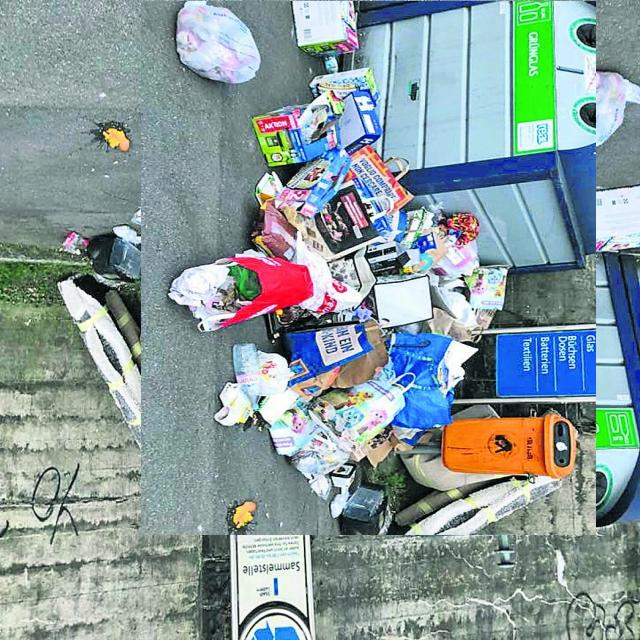garbage: (118, 14, 618, 514)
